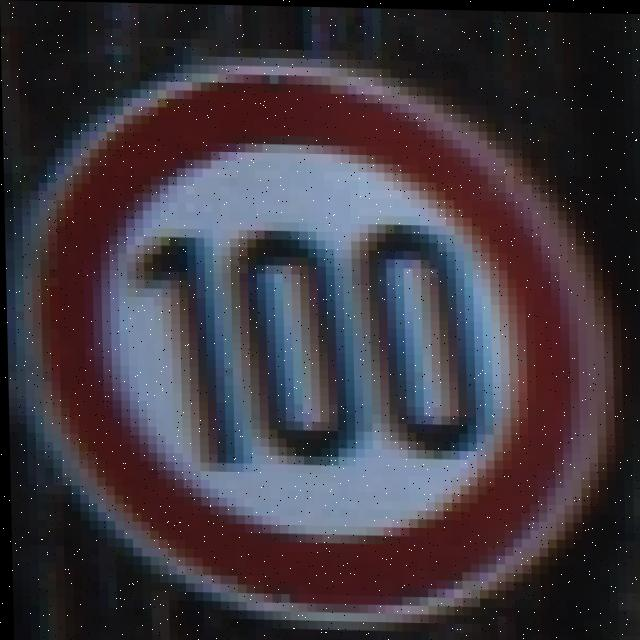speed_limit_100: (33, 83, 607, 620)
